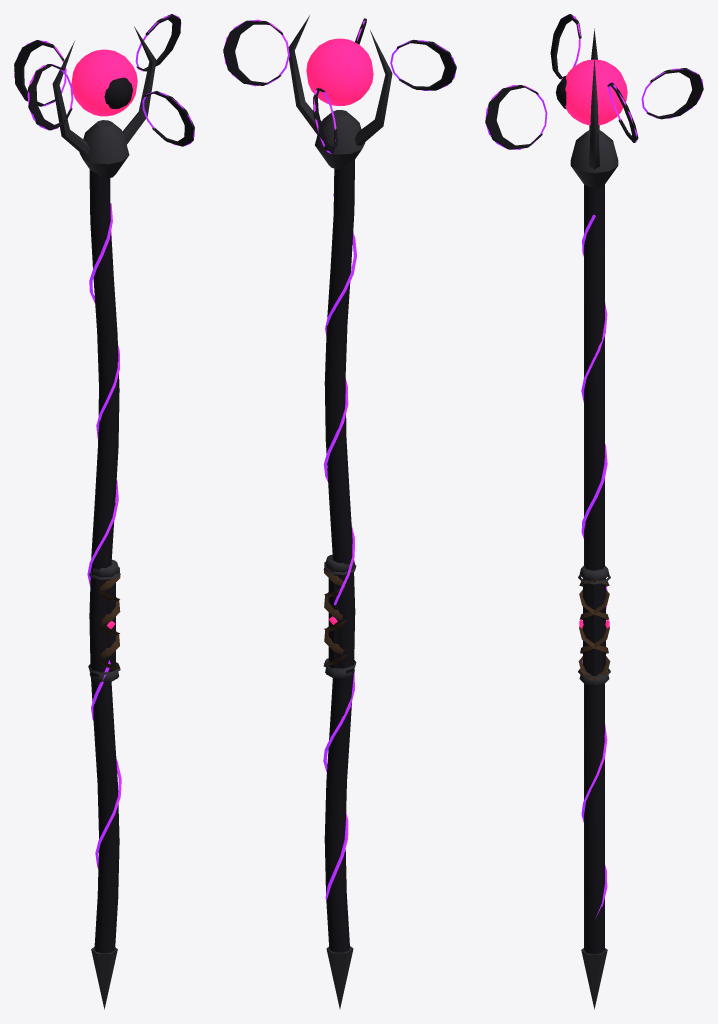
Rendered from void_staff.glb.
3 renders of one model, left to right at view 1: azimuth 30°, elevation 25°; view 2: azimuth 150°, elevation 25°; view 3: azimuth 270°, elevation 25°, orthographic. The views are drawn at different scales.
Visible parts, largest first — view 1: void_staff; view 2: void_staff; view 3: void_staff.
Part boxes in pixels (box(x1,y1,x2,y2)): void_staff: box(14, 14, 194, 1009); void_staff: box(223, 15, 456, 1008); void_staff: box(485, 14, 703, 1009).
Size of the model in its own units: 0.3951 by 1.93 by 0.3951.
